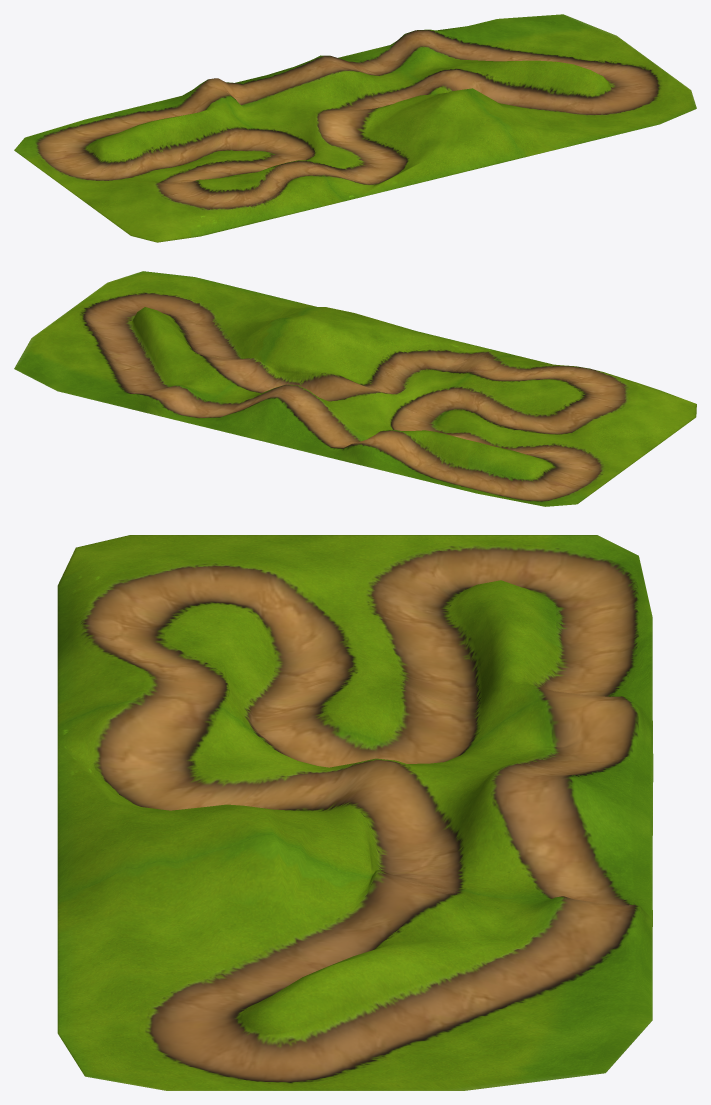
The model's file is track2.fbx.
The picture shows the model from 3 angles, top to bottom: view 1: azimuth 30°, elevation 25°; view 2: azimuth 150°, elevation 25°; view 3: azimuth 270°, elevation 25°; orthographic projection. The views are drawn at different scales.
Visible parts, largest first — view 1: pPlane2; view 2: pPlane2; view 3: pPlane2.
Boxes of the visible parts, bbox=[...] form: pPlane2: bbox=[14, 14, 696, 242]; pPlane2: bbox=[14, 271, 696, 506]; pPlane2: bbox=[57, 535, 653, 1090].
Size of the model in its own units: 30 by 2.19 by 13.58.
